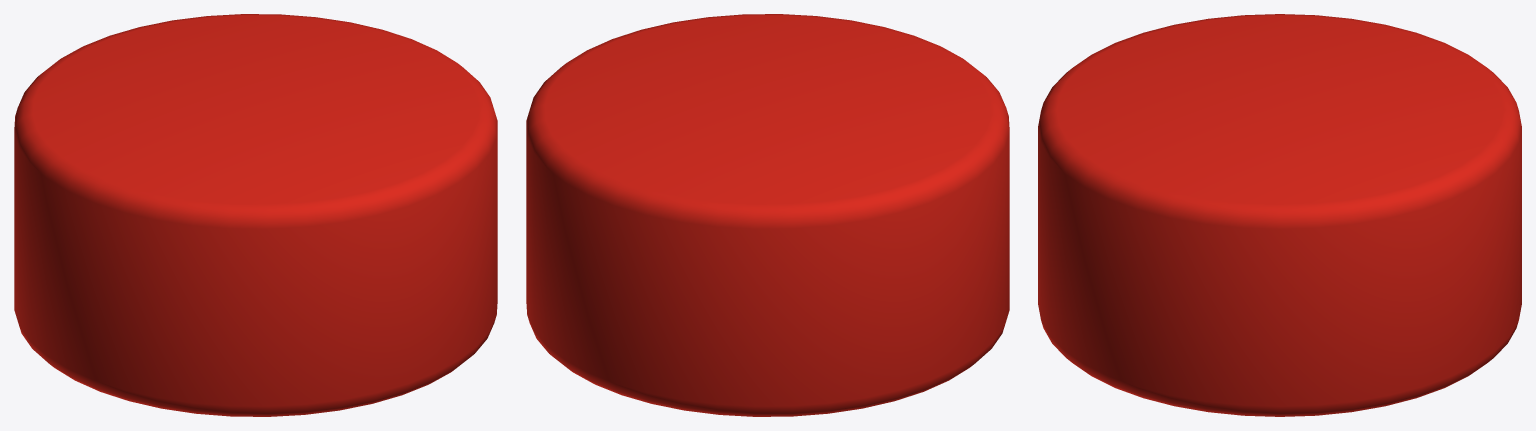
File: SM_Charger_EStop.fbx
The picture shows the model from 3 angles, left to right: view 1: azimuth 30°, elevation 25°; view 2: azimuth 150°, elevation 25°; view 3: azimuth 270°, elevation 25°; orthographic projection.
Visible parts, largest first — view 1: SM_Charger_EStop.001; view 2: SM_Charger_EStop.001; view 3: SM_Charger_EStop.001.
Part boxes in pixels (x1=…): SM_Charger_EStop.001: x1=14, y1=14, x2=497, y2=416; SM_Charger_EStop.001: x1=526, y1=14, x2=1009, y2=416; SM_Charger_EStop.001: x1=1038, y1=14, x2=1521, y2=416.
Bounding box in the file's own units: 0.052 × 0.052 × 0.025.
